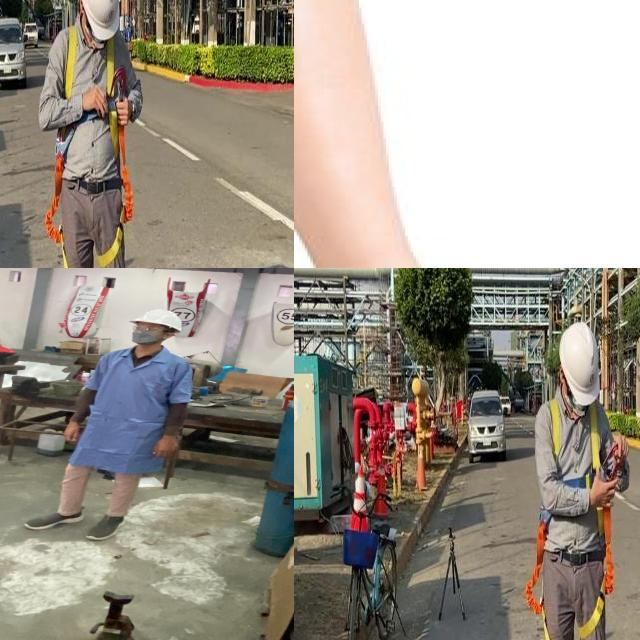Harness: (97, 38, 134, 268), (550, 396, 602, 488), (579, 508, 615, 640), (45, 126, 74, 268), (525, 520, 551, 640)
face_mask: (129, 324, 165, 344)
glasses: (129, 324, 170, 335)
hand_noglove: (148, 435, 182, 461), (58, 422, 84, 443)
head_helmet: (132, 307, 188, 332)
person: (10, 302, 204, 544)
shoes: (23, 502, 87, 530), (81, 510, 129, 543)
